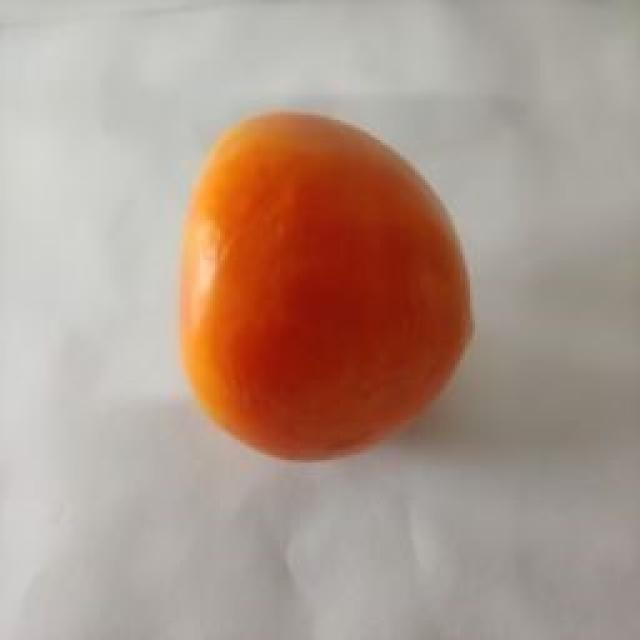Ripe: (173, 103, 482, 470)
